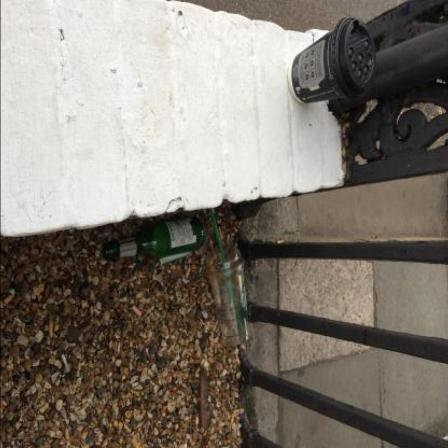Bottle: (103, 218, 205, 262)
Cigarette: (63, 355, 71, 375), (131, 306, 142, 319), (5, 295, 16, 306), (49, 316, 54, 339), (186, 266, 192, 279), (219, 228, 224, 241), (217, 253, 223, 262), (279, 241, 287, 245)
Cup: (288, 28, 348, 106), (207, 260, 250, 347)
Lid: (332, 19, 377, 101), (207, 245, 247, 280)
Straw: (211, 210, 241, 329)
